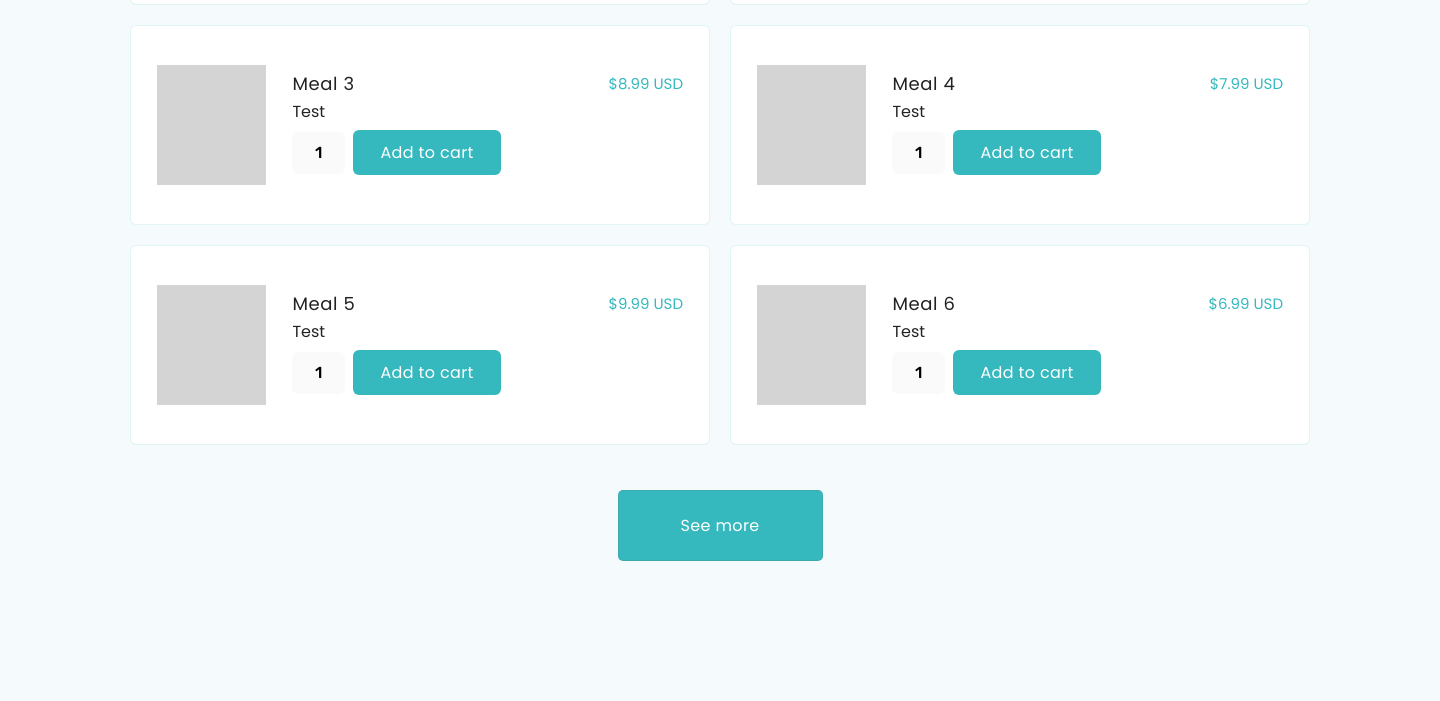
Test: MealList Component › loads more meals when "See more" clicked
This screenshot has width=1440, height=701.
(page scrolled)
Click the button "See more": (720,526) top-left (654, 503), bottom-right (786, 548)
(page scrolled)
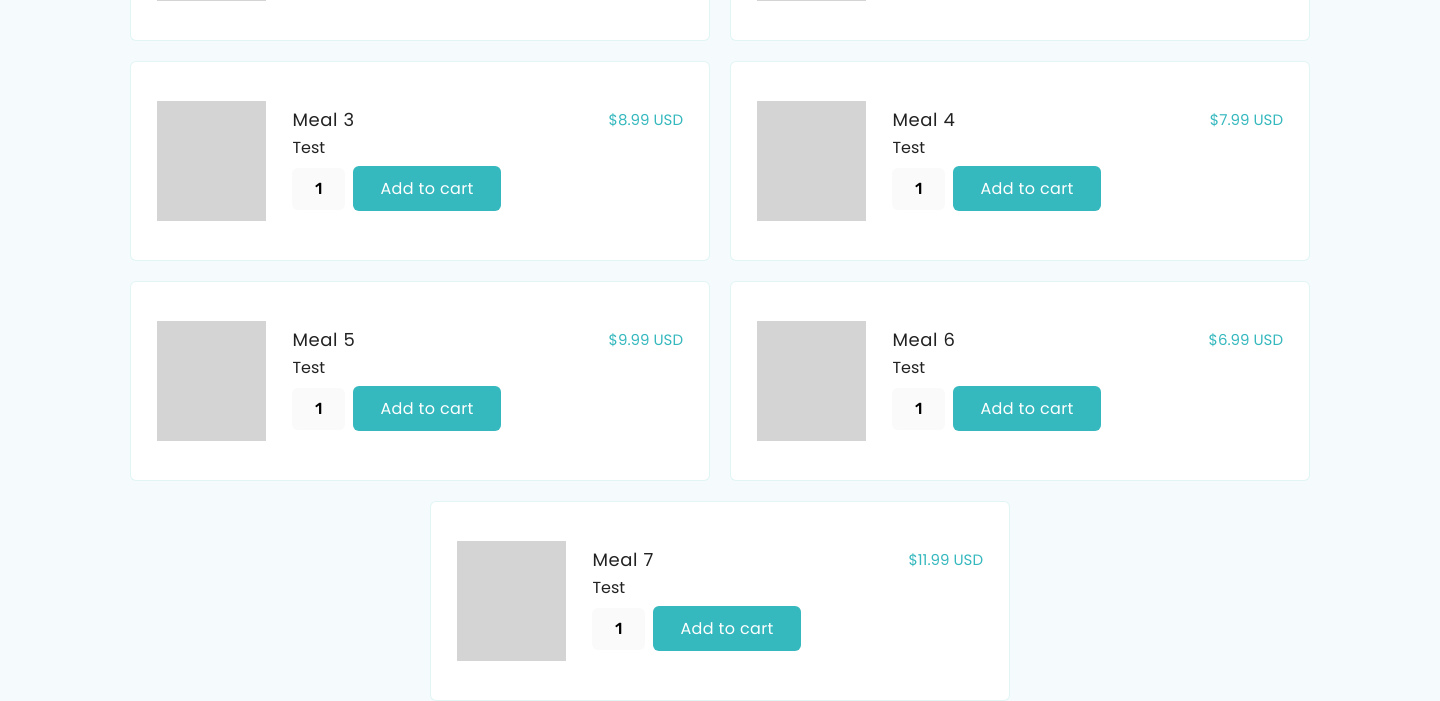
Expected: the heading "Meal 7" is shown, top-left (592, 551), bottom-right (654, 569)
Expected: the button "See more" is gone
